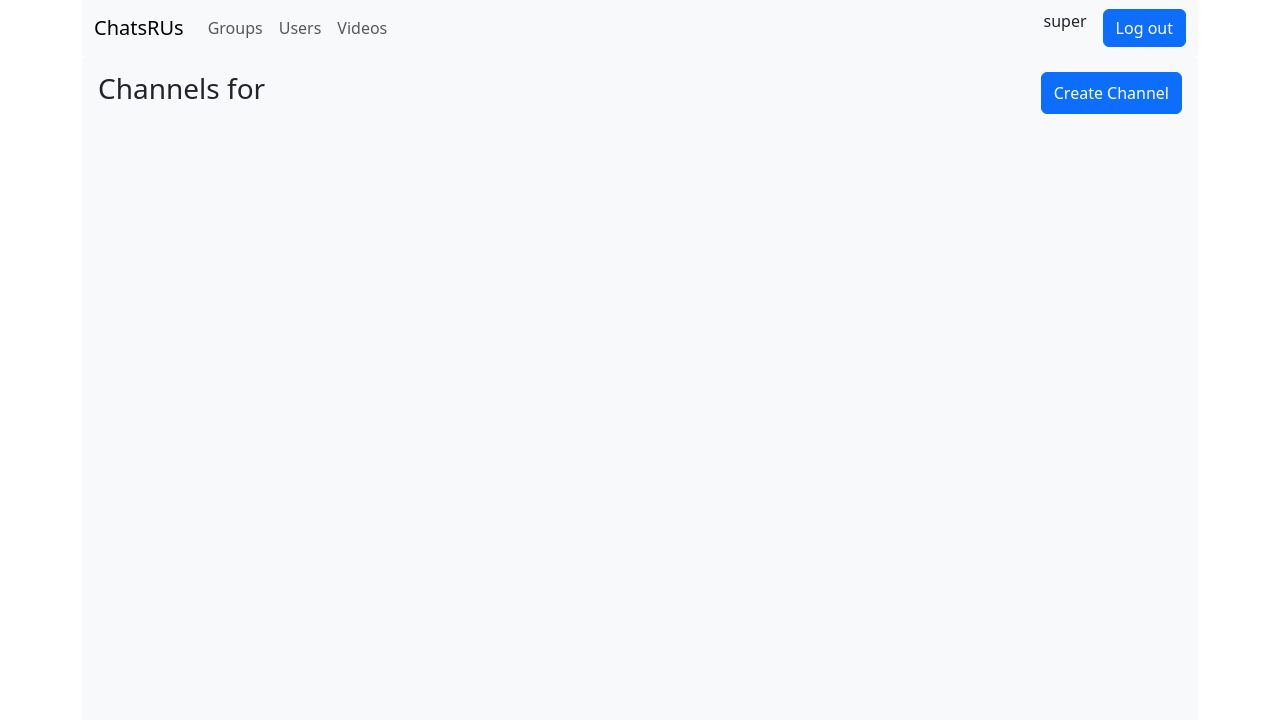
Test: ChannelsComponent › should open the create channel modal when the button is clicked
This screenshot has width=1280, height=720.
Click the button "Create Channel" at {"x": 1112, "y": 93}, box [1041,72,1182,114]
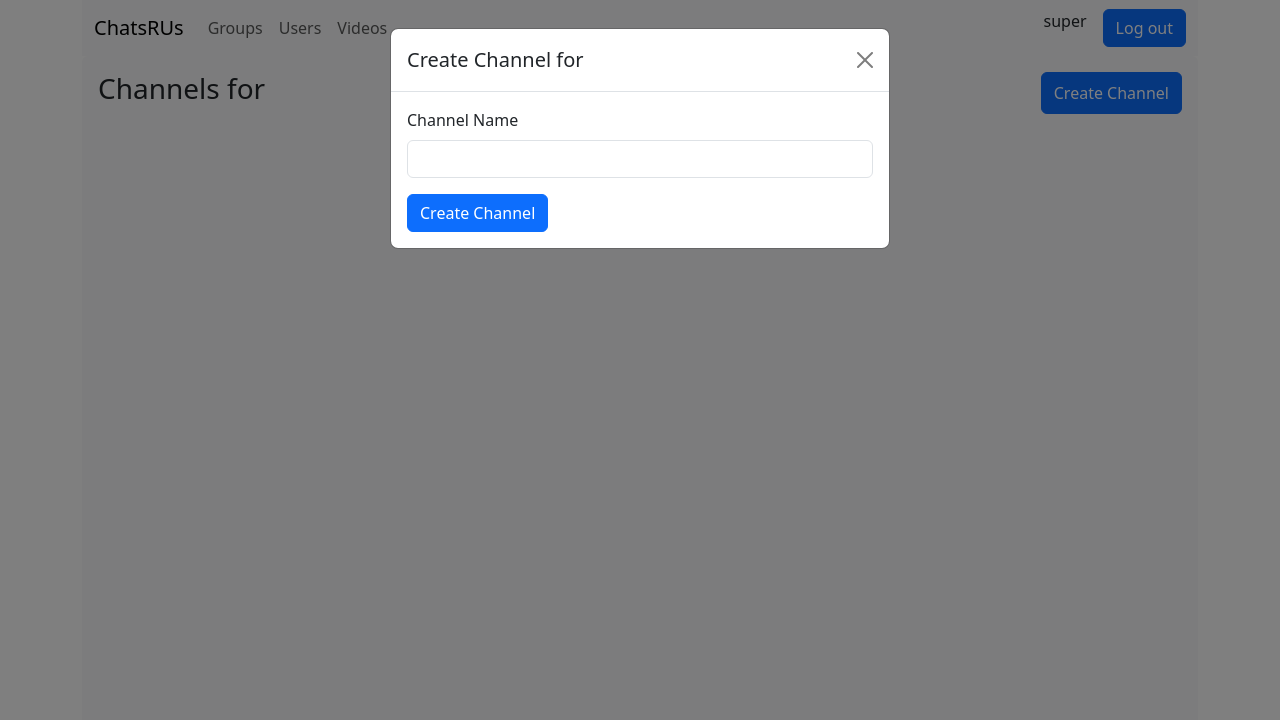
Now the dialog with id "createChannelModal" is shown, box [390,28,890,249]
